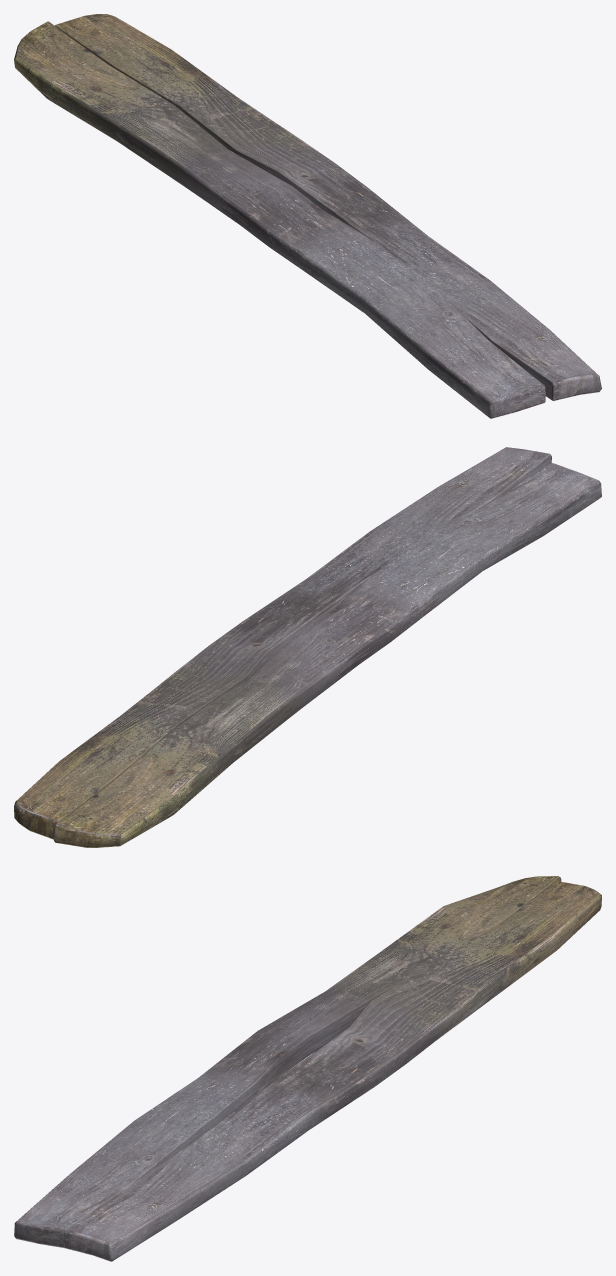
Rendered from sm_WoodPlank_01_03.fbx.
The picture shows the model from 3 angles, top to bottom: view 1: azimuth 30°, elevation 25°; view 2: azimuth 150°, elevation 25°; view 3: azimuth 330°, elevation 25°; orthographic projection. The views are drawn at different scales.
Visible parts, largest first — view 1: sm_WoodPlank_01_03_LOD0; view 2: sm_WoodPlank_01_03_LOD0; view 3: sm_WoodPlank_01_03_LOD0.
Part boxes in pixels (x1,y1,x2,y2): sm_WoodPlank_01_03_LOD0: (14,14,601,418); sm_WoodPlank_01_03_LOD0: (14,447,601,847); sm_WoodPlank_01_03_LOD0: (14,876,601,1261).
Bounding box in the file's own units: 14.72 × 100 × 4.7.
